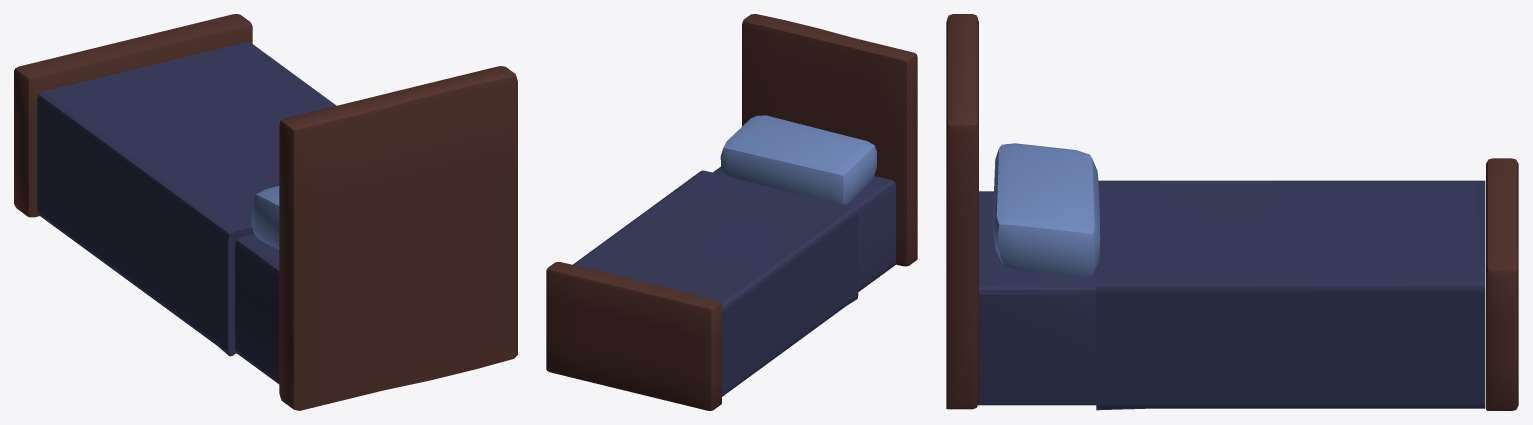
The model's file is camapro 1.fbx.
3 renders of one model, left to right at view 1: azimuth 30°, elevation 25°; view 2: azimuth 150°, elevation 25°; view 3: azimuth 270°, elevation 25°, orthographic. The views are drawn at different scales.
Parts seen in each view (by area): view 1: Cama; view 2: Cama; view 3: Cama.
Part boxes in pixels (box(x1,y1,x2,y2)): Cama: box(14, 14, 517, 410); Cama: box(546, 14, 917, 410); Cama: box(946, 14, 1518, 410).
Size of the model in its own units: 2.43 by 2.91 by 5.2.
